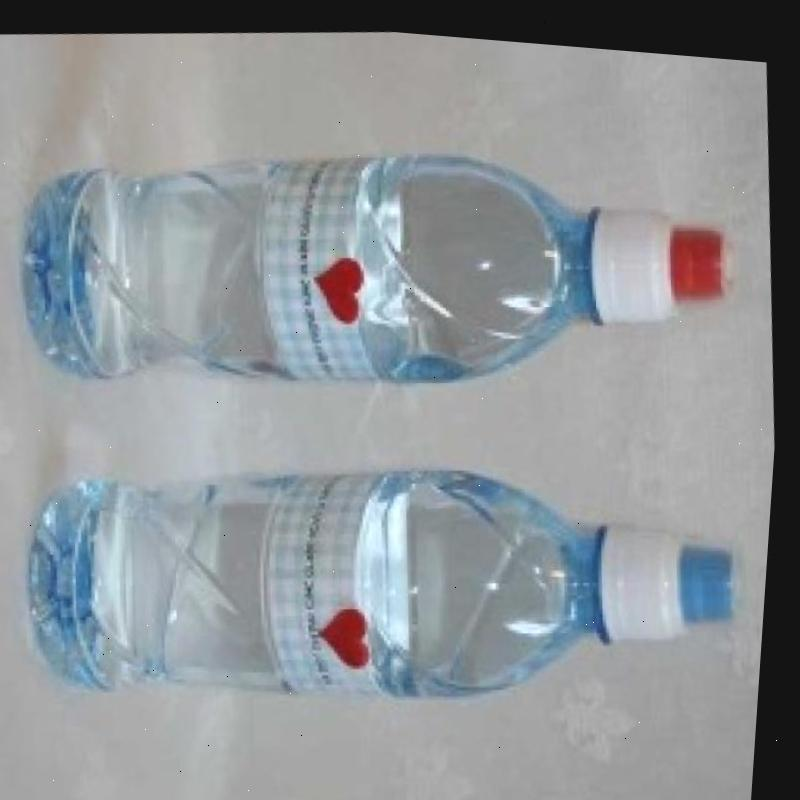botella: (23, 406, 760, 748), (18, 92, 744, 427)
